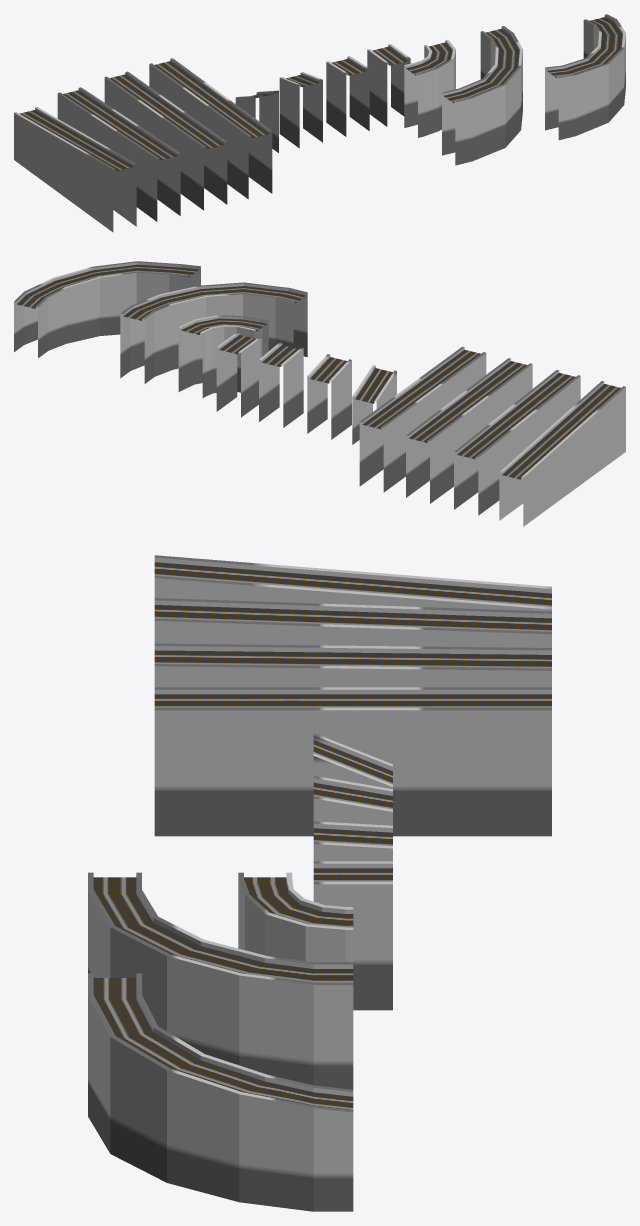
Rendered from NormalTrainTrackModularModels.fbx.
3 renders of one model, top to bottom at view 1: azimuth 30°, elevation 25°; view 2: azimuth 150°, elevation 25°; view 3: azimuth 270°, elevation 25°, orthographic. The views are drawn at different scales.
Visible parts, largest first — view 1: TrackStraightLong_VerySloped, TrackCurvedLong, TrackCurvedLong_Sloped, TrackStraightLong_SlightSloped, TrackStraightLong, TrackStraightLong_Sloped, TrackCurvedShort, TrackStraightShort_SlightSloped, TrackStraightShort_Sloped, TrackStraightShort, TrackStraightShort_VerySloped; view 2: TrackCurvedLong_Sloped, TrackCurvedLong, TrackStraightLong_VerySloped, TrackStraightLong_SlightSloped, TrackStraightLong_Sloped, TrackStraightLong, TrackCurvedShort, TrackStraightShort_SlightSloped, TrackStraightShort_Sloped, TrackStraightShort, TrackStraightShort_VerySloped; view 3: TrackStraightLong, TrackCurvedLong_Sloped, TrackCurvedLong, TrackStraightLong_SlightSloped, TrackStraightLong_Sloped, TrackStraightLong_VerySloped, TrackCurvedShort, TrackStraightShort, TrackStraightShort_Sloped, TrackStraightShort_SlightSloped, TrackStraightShort_VerySloped.
Part boxes in pixels (x1,y1,x2,y2): TrackStraightLong_VerySloped: [14, 107, 136, 232]; TrackCurvedLong: [442, 26, 522, 165]; TrackCurvedLong_Sloped: [545, 14, 625, 140]; TrackStraightLong_SlightSloped: [104, 71, 227, 210]; TrackStraightLong: [149, 58, 272, 199]; TrackStraightLong_Sloped: [57, 87, 180, 221]; TrackCurvedShort: [404, 39, 455, 137]; TrackStraightShort_SlightSloped: [326, 56, 369, 136]; TrackStraightShort_Sloped: [279, 72, 322, 148]; TrackStraightShort: [367, 44, 410, 126]; TrackStraightShort_VerySloped: [235, 90, 278, 152]; TrackCurvedLong_Sloped: [14, 261, 200, 357]; TrackCurvedLong: [120, 282, 307, 383]; TrackStraightLong_VerySloped: [499, 381, 625, 526]; TrackStraightLong_SlightSloped: [406, 358, 532, 503]; TrackStraightLong_Sloped: [454, 370, 580, 515]; TrackStraightLong: [359, 347, 486, 492]; TrackCurvedShort: [178, 315, 268, 397]; TrackStraightShort_SlightSloped: [259, 342, 303, 427]; TrackStraightShort_Sloped: [307, 354, 351, 439]; TrackStraightShort: [216, 332, 261, 417]; TrackStraightShort_VerySloped: [352, 365, 396, 444]; TrackStraightLong: [154, 687, 551, 836]; TrackCurvedLong_Sloped: [88, 973, 353, 1211]; TrackCurvedLong: [88, 872, 353, 1089]; TrackStraightLong_SlightSloped: [154, 643, 551, 687]; TrackStraightLong_Sloped: [154, 598, 551, 647]; TrackStraightLong_VerySloped: [154, 555, 551, 611]; TrackCurvedShort: [238, 872, 353, 961]; TrackStraightShort: [313, 861, 392, 1010]; TrackStraightShort_Sloped: [313, 775, 392, 825]; TrackStraightShort_SlightSloped: [313, 821, 392, 861]; TrackStraightShort_VerySloped: [313, 733, 392, 788].
Bounding box in the file's own units: 158 × 58.4 × 17.51.
